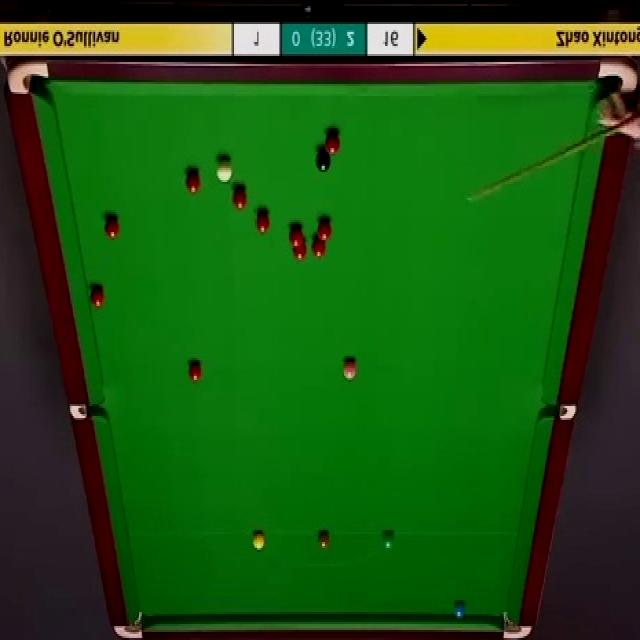black-ball: (316, 148, 334, 174)
blue-ball: (454, 598, 466, 620)
brown-ball: (317, 531, 330, 550)
green-ball: (381, 531, 394, 550)
pink-ball: (342, 356, 358, 378)
red-ball: (185, 168, 202, 196), (105, 216, 121, 242), (232, 185, 247, 211), (90, 282, 105, 307), (325, 132, 341, 155), (255, 212, 269, 236), (290, 225, 305, 246), (292, 241, 307, 262), (312, 237, 326, 259), (317, 222, 330, 243), (188, 362, 202, 380)
white-ball: (215, 156, 234, 184)
yellow-ball: (252, 531, 265, 550)
